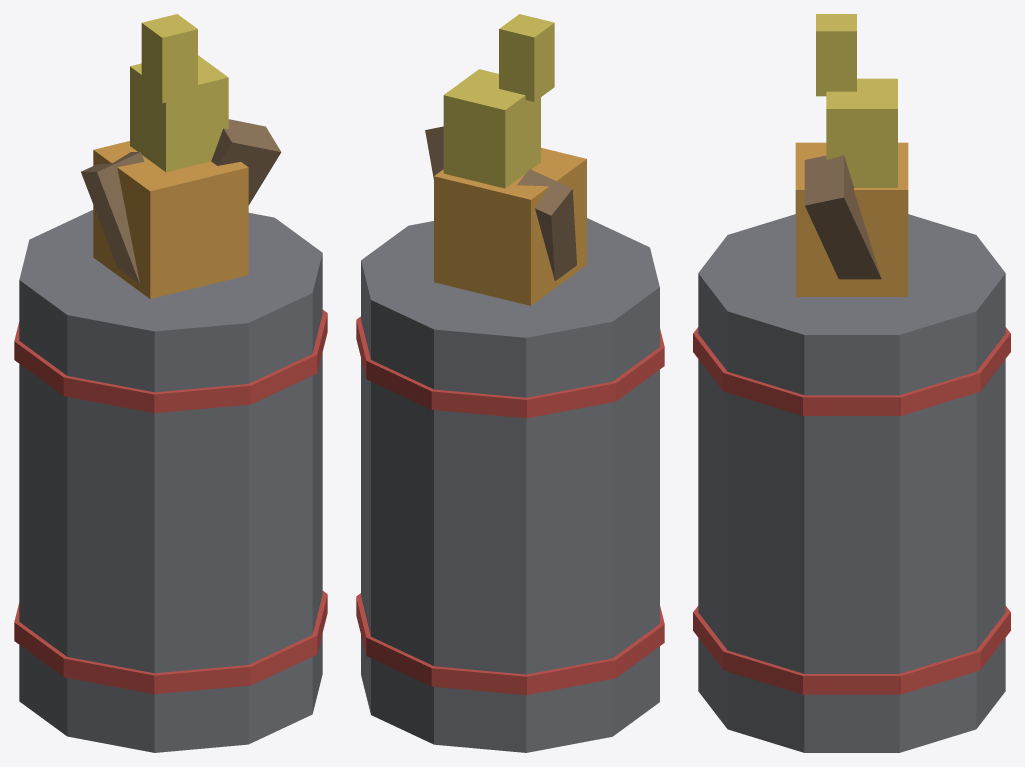
File: Ates_Varili.glb
The picture shows the model from 3 angles, left to right: view 1: azimuth 30°, elevation 25°; view 2: azimuth 150°, elevation 25°; view 3: azimuth 270°, elevation 25°; orthographic projection.
Parts seen in each view (by area): view 1: Ates_Varili; view 2: Ates_Varili; view 3: Ates_Varili.
Part boxes in pixels (x1,y1,x2,y2): Ates_Varili: (14,14,327,752); Ates_Varili: (356,14,664,752); Ates_Varili: (693,14,1010,752).
Size of the model in its own units: 0.5897 by 1.43 by 0.62.
